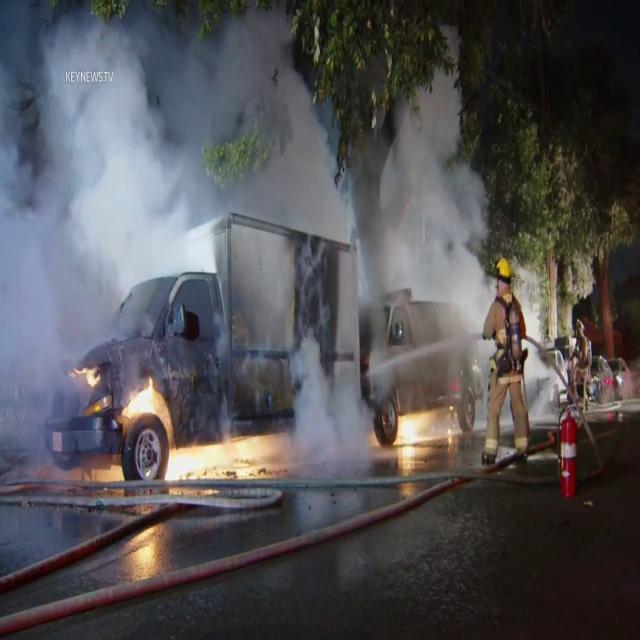Smoke: (0, 1, 504, 434)
